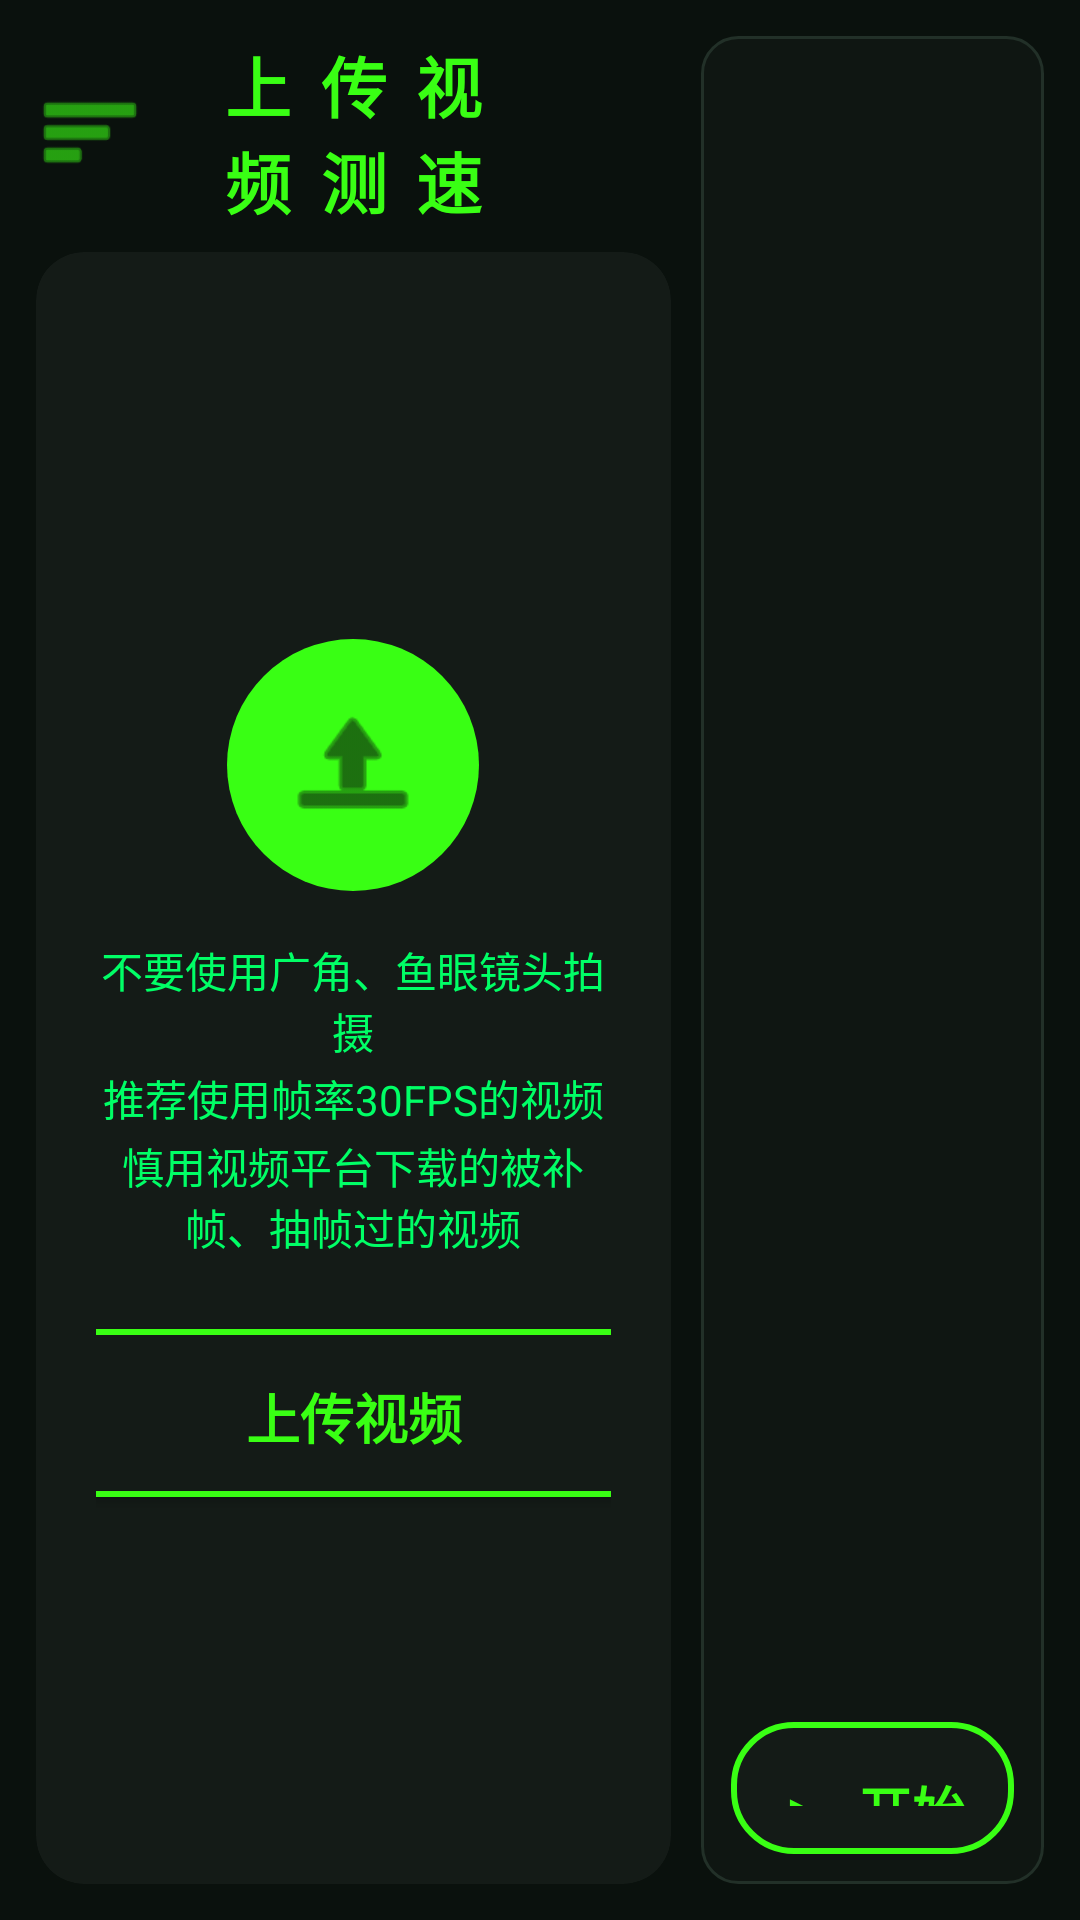

Screen size 1080 × 1920. Icon name, then its center in pixels as [x,y]:
menu: [90,132]
upload: [353,763]
